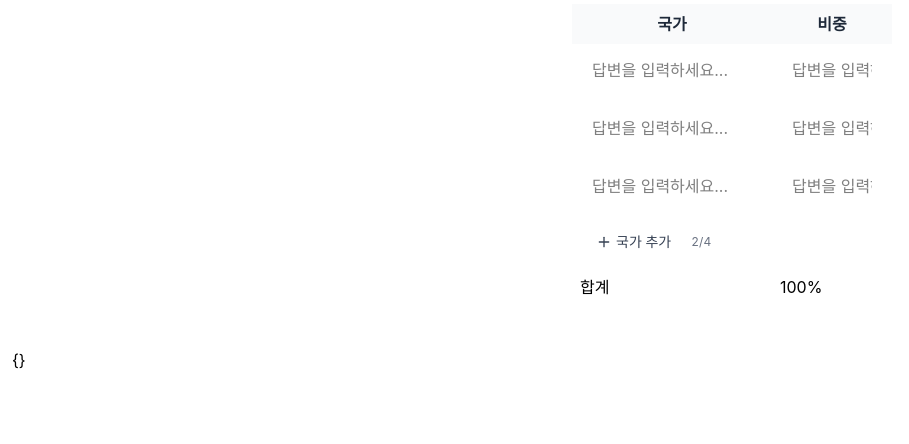
Scenario: 행 차례로 열기 — 묶음 바로 아래 버튼 줄 › 열린 수와 최대를 보인다
Check: the element named "행 추가·삭제" shows "2/4", box [572,218,892,266]
Click the button "국가 추가".
click(634, 242)  # box [584,226,683,258]
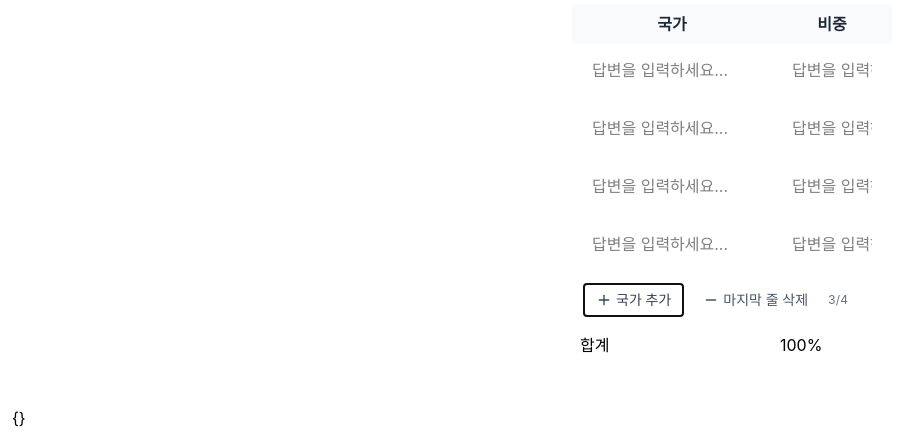
Check: the element named "행 추가·삭제" shows "3/4", box [572,276,892,324]
